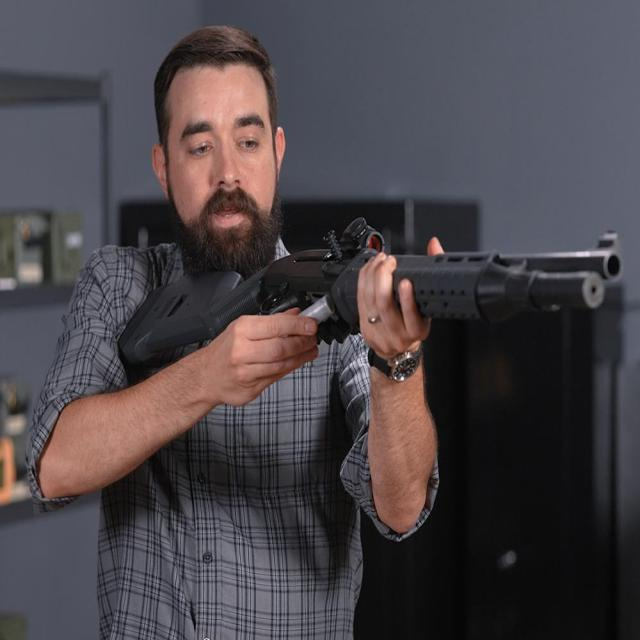ShotGun: (120, 218, 623, 361)
